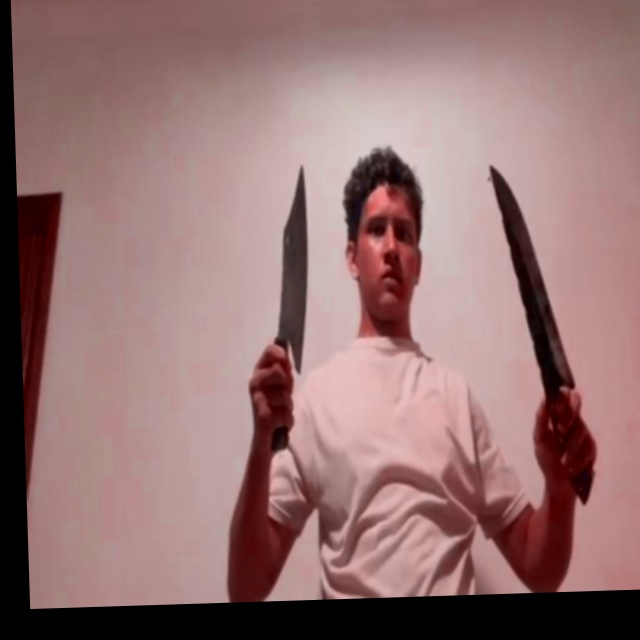Sharp-Object: (489, 163, 572, 389), (272, 167, 313, 374)
